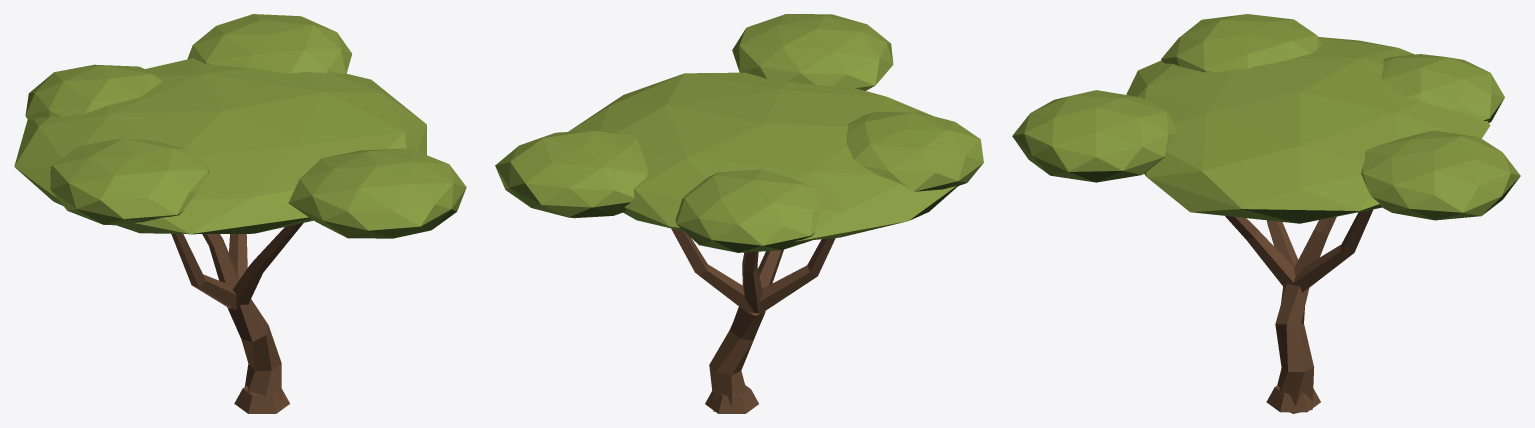
Rendered from tree_acacia_b.glb.
The picture shows the model from 3 angles, left to right: view 1: azimuth 30°, elevation 25°; view 2: azimuth 150°, elevation 25°; view 3: azimuth 270°, elevation 25°; orthographic projection. The views are drawn at different scales.
Parts seen in each view (by area): view 1: tree_acacia_b; view 2: tree_acacia_b; view 3: tree_acacia_b.
Part boxes in pixels (bbox=[...]): tree_acacia_b: bbox=[14, 14, 466, 413]; tree_acacia_b: bbox=[495, 14, 983, 413]; tree_acacia_b: bbox=[1012, 14, 1520, 413].
Size of the model in its own units: 3.13 by 2.45 by 3.72.
